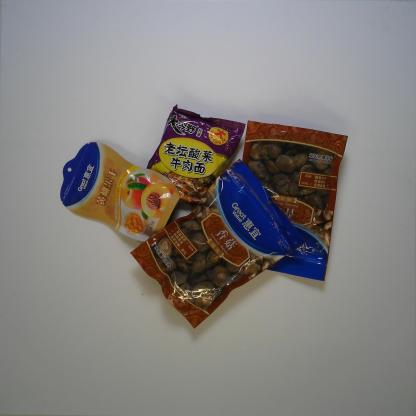Dried Food: (129, 158, 309, 329), (241, 118, 349, 284)
Dried Fruit: (59, 141, 181, 243)
Instant Noodles: (146, 102, 246, 209)
